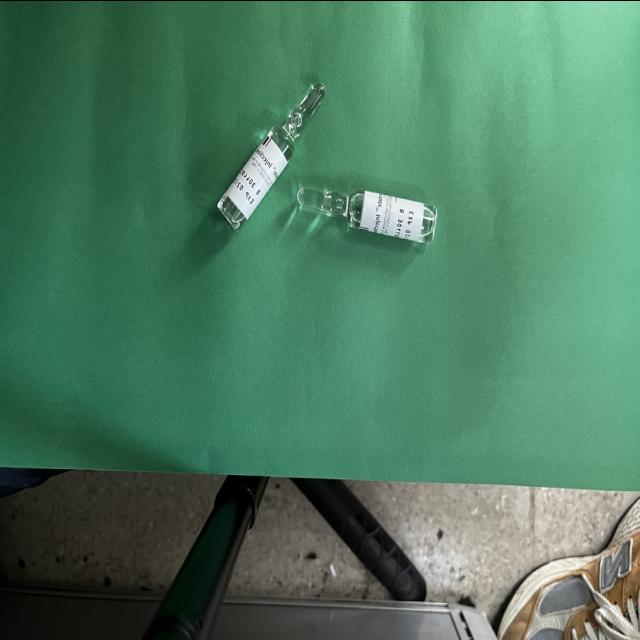Ampoules: (217, 82, 325, 229), (296, 187, 437, 243)
